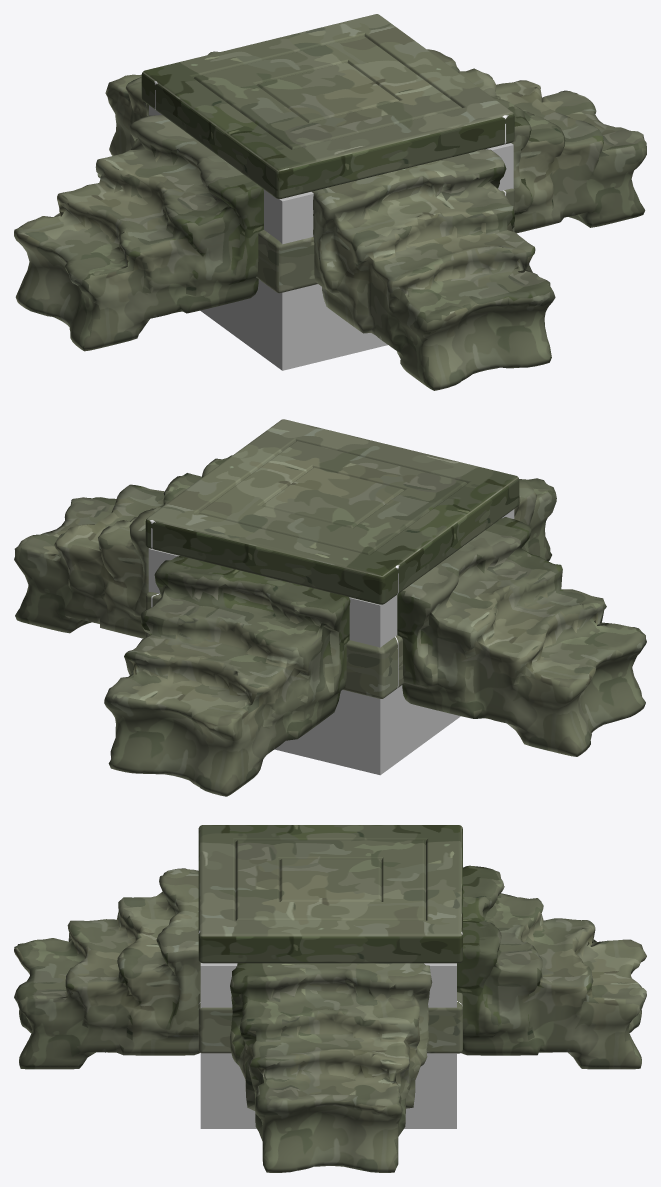
The model's file is CenterBase.fbx.
3 views of the same model, one above another, from view 1: azimuth 30°, elevation 25°; view 2: azimuth 150°, elevation 25°; view 3: azimuth 270°, elevation 25° (orthographic). The views are drawn at different scales.
Visible parts, largest first — view 1: Stairs.001, Base, Base.CENTER; view 2: Stairs.001, Base, Base.CENTER; view 3: Stairs.001, Base, Base.CENTER.
Boxes of the visible parts, x1,y1,x2,y2 form: Stairs.001: (14,49,646,390); Base: (141,14,514,293); Base.CENTER: (149,105,513,370); Stairs.001: (14,455,646,796); Base: (145,419,519,698); Base.CENTER: (148,509,514,775); Stairs.001: (14,865,646,1172); Base: (198,825,462,1053); Base.CENTER: (200,963,456,1128).
Size of the model in its own units: 718 by 243 by 719.
